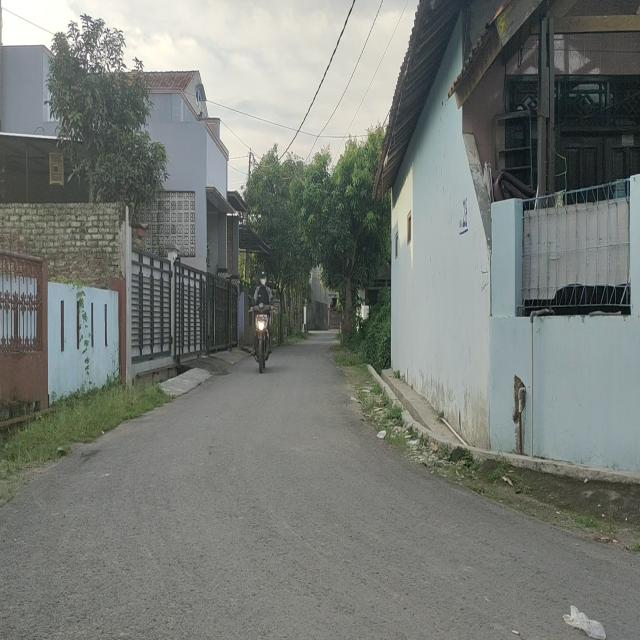no-helmet: (260, 268, 266, 287)
